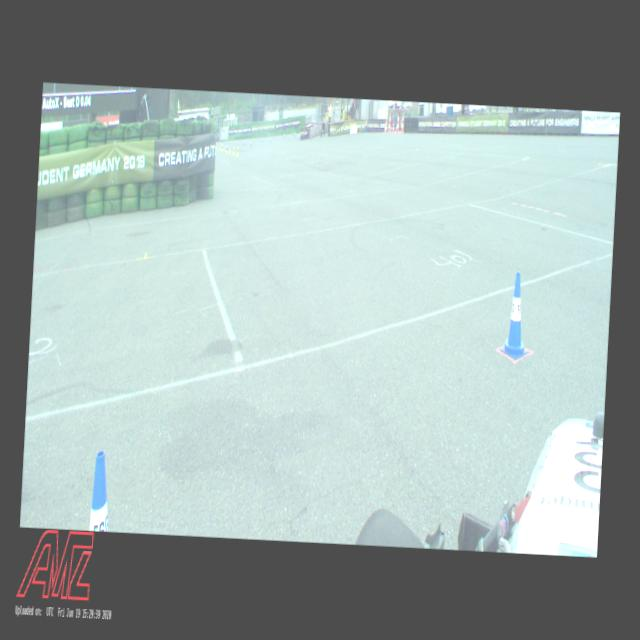blue_cone: (501, 272, 531, 360), (90, 451, 112, 532), (243, 140, 246, 146), (294, 130, 296, 138), (250, 140, 252, 146), (262, 136, 264, 142), (284, 132, 286, 138), (292, 130, 294, 136), (270, 136, 271, 143), (222, 142, 222, 148)
yellow_cone: (236, 147, 239, 156), (225, 145, 228, 153), (232, 147, 235, 155), (229, 146, 231, 154), (222, 144, 224, 152), (220, 144, 222, 150), (216, 142, 217, 148)
